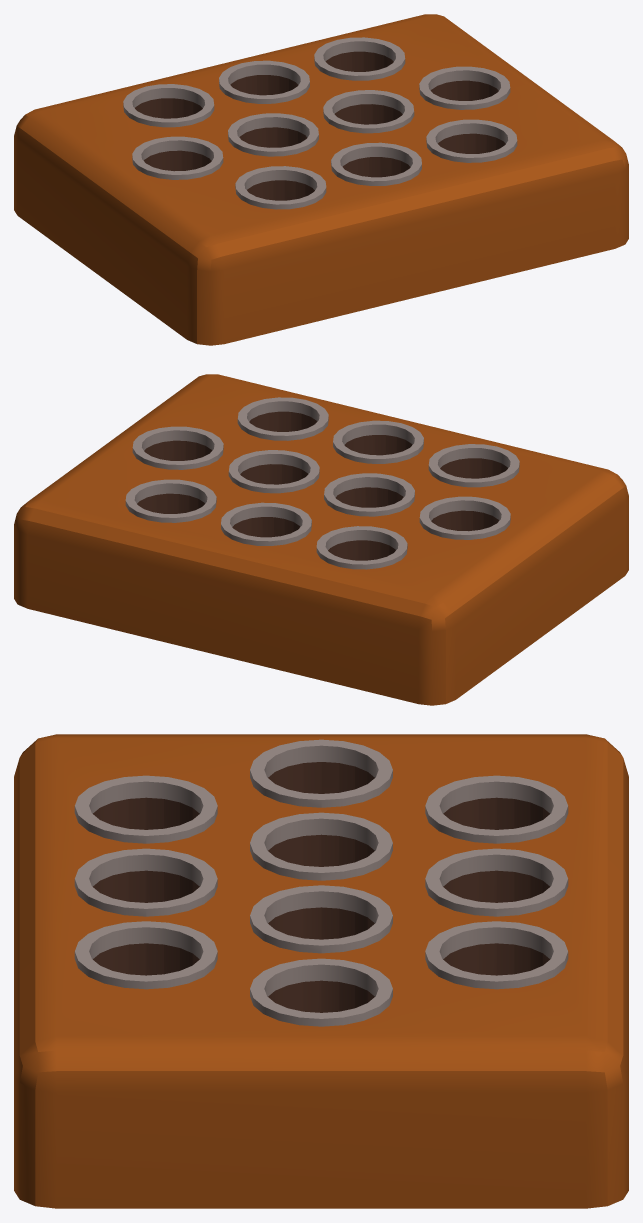
The model's file is Tablero.glb.
3 views of the same model, one above another, from view 1: azimuth 30°, elevation 25°; view 2: azimuth 150°, elevation 25°; view 3: azimuth 270°, elevation 25° (orthographic). The views are drawn at different scales.
Visible parts, largest first — view 1: Tablero; view 2: Tablero; view 3: Tablero.
Part boxes in pixels (x1,y1,x2,y2): Tablero: (14,14,628,345); Tablero: (14,374,628,705); Tablero: (14,734,628,1208).
Size of the model in its own units: 0.2742 by 0.0621 by 0.2133.
